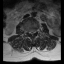CCS_stenosis: (31, 30, 33, 37)
LFS_stenosis: (34, 28, 36, 34)
LLS_stenosis: (32, 29, 34, 36)
RFS_stenosis: (28, 30, 30, 35)
RLS_stenosis: (30, 30, 31, 36)
